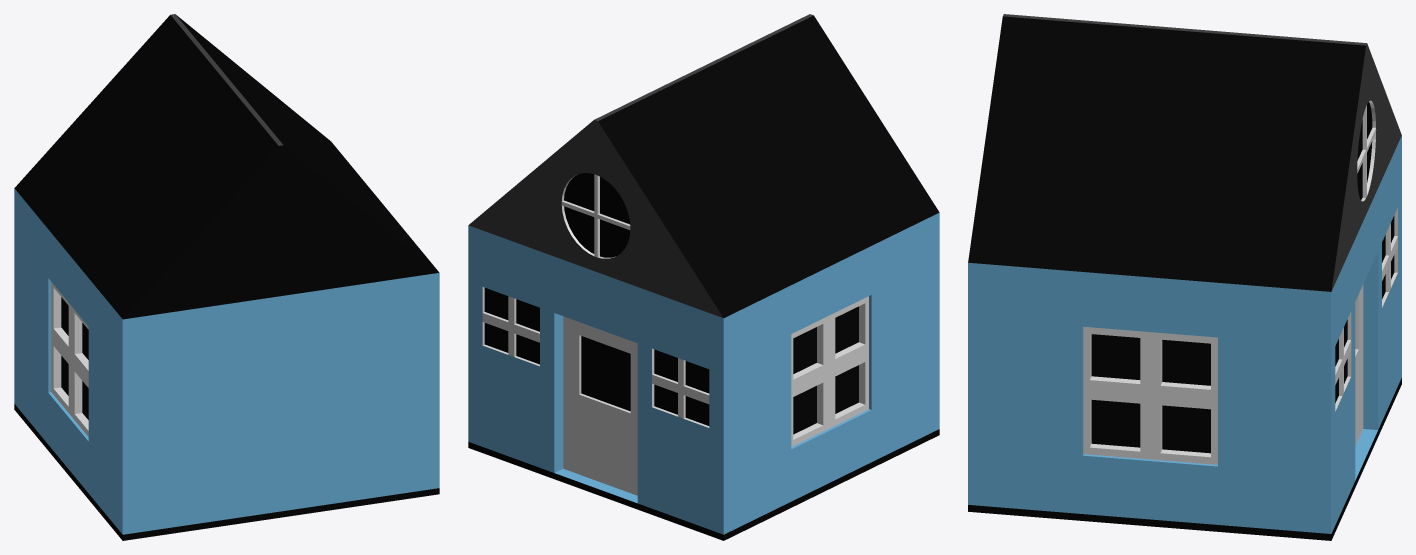
The model's file is House.glb.
3 views of the same model, side by side, from view 1: azimuth 30°, elevation 25°; view 2: azimuth 150°, elevation 25°; view 3: azimuth 270°, elevation 25° (orthographic). The views are drawn at different scales.
Visible parts, largest first — view 1: Cube.006; view 2: Cube.006; view 3: Cube.006.
Boxes of the visible parts, left/top/right/bottom form: Cube.006: left=14, top=14, right=439, bottom=540; Cube.006: left=468, top=14, right=939, bottom=540; Cube.006: left=968, top=14, right=1401, bottom=540.
Bounding box in the file's own units: 2.38 × 2.5 × 2.35.
